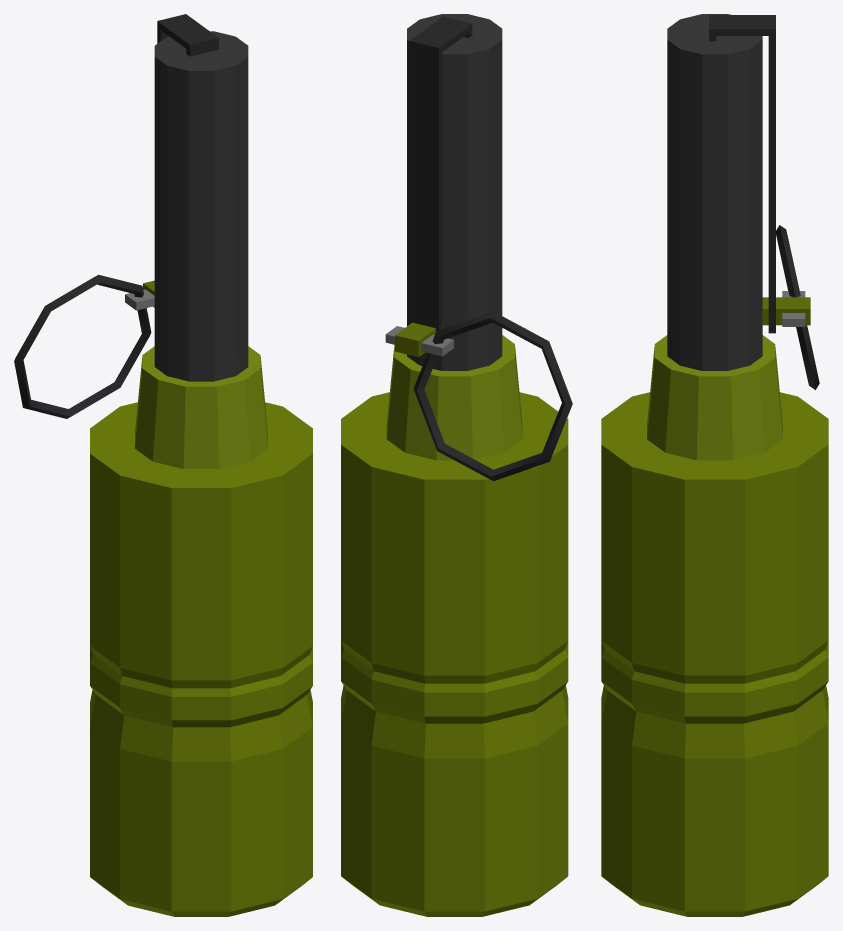
Rendered from Anti-Tank2.FBX.
3 renders of one model, left to right at view 1: azimuth 30°, elevation 25°; view 2: azimuth 150°, elevation 25°; view 3: azimuth 270°, elevation 25°, orthographic.
Parts seen in each view (by area): view 1: Cylinder007, Object006, Object005; view 2: Cylinder007, Object005, Object006, Box002; view 3: Cylinder007, Object005, Object006.
Boxes of the visible parts, x1,y1,x2,y2 form: Cylinder007: [90, 31, 312, 916]; Object006: [14, 274, 151, 418]; Object005: [157, 14, 218, 56]; Cylinder007: [341, 14, 568, 916]; Object005: [409, 16, 472, 331]; Object006: [413, 311, 572, 481]; Box002: [385, 326, 453, 356]; Cylinder007: [601, 14, 828, 916]; Object005: [709, 15, 775, 333]; Object006: [776, 225, 819, 389].
Size of the model in its own units: 0.1491 by 0.4795 by 0.1159.
